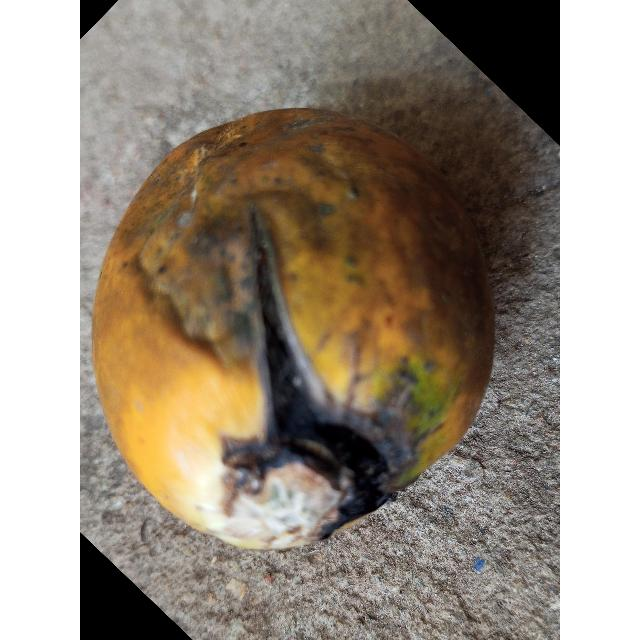damaged: (91, 109, 496, 555)
